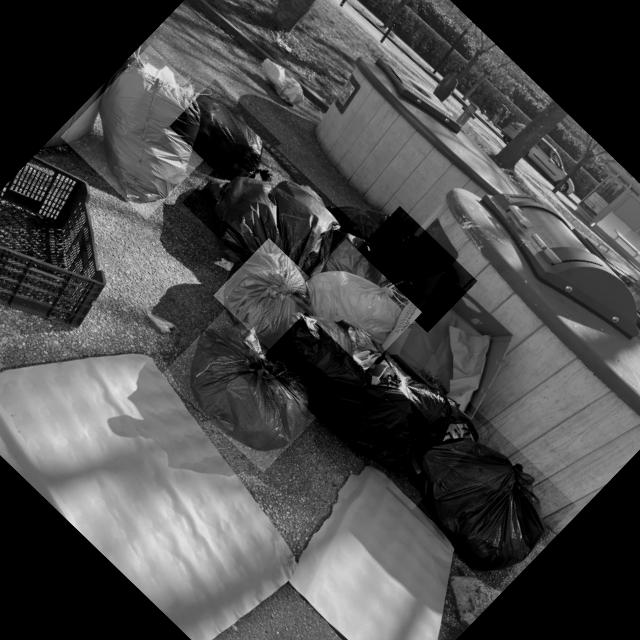Garbage bag: (258, 282, 488, 510), (385, 402, 576, 592), (59, 46, 234, 220), (182, 127, 356, 300), (162, 304, 332, 472), (289, 239, 422, 371), (349, 206, 477, 333), (212, 238, 336, 360), (168, 80, 280, 192)
